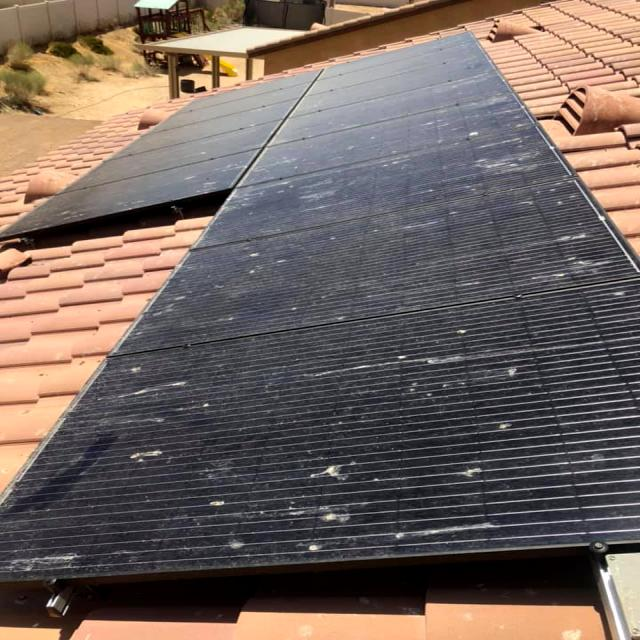bird: (284, 458, 386, 550), (94, 354, 226, 414), (368, 330, 456, 412), (484, 366, 558, 442), (370, 508, 530, 542), (186, 495, 264, 562), (96, 430, 217, 470), (0, 538, 105, 580), (470, 136, 560, 184), (543, 218, 605, 283), (436, 468, 544, 495), (240, 232, 296, 284)
